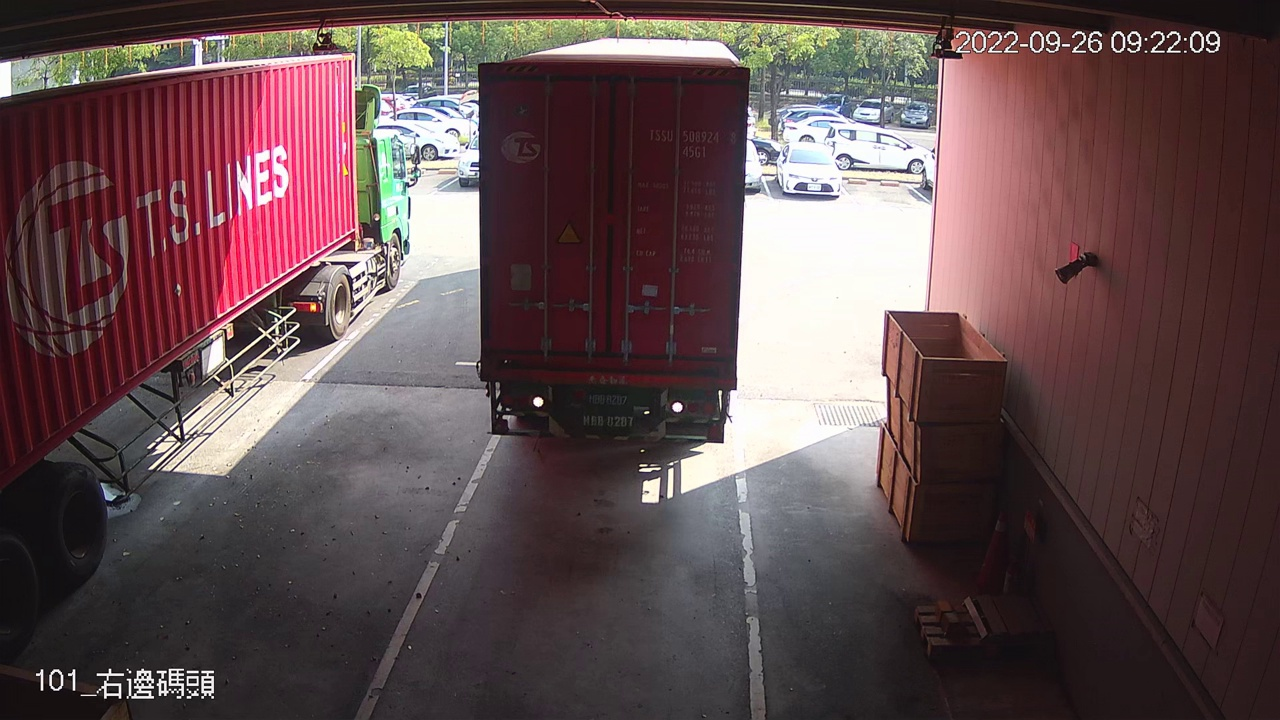container: (643, 122, 742, 163)
